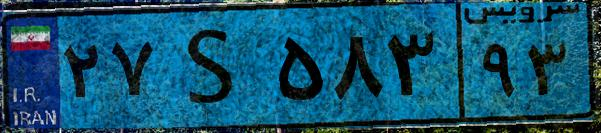2: (57, 26, 110, 100)
3: (385, 28, 445, 110), (525, 38, 570, 115)
5: (270, 28, 330, 110)
7: (110, 28, 158, 98)
8: (330, 28, 385, 110)
9: (475, 38, 525, 113)
S: (158, 12, 270, 120)
